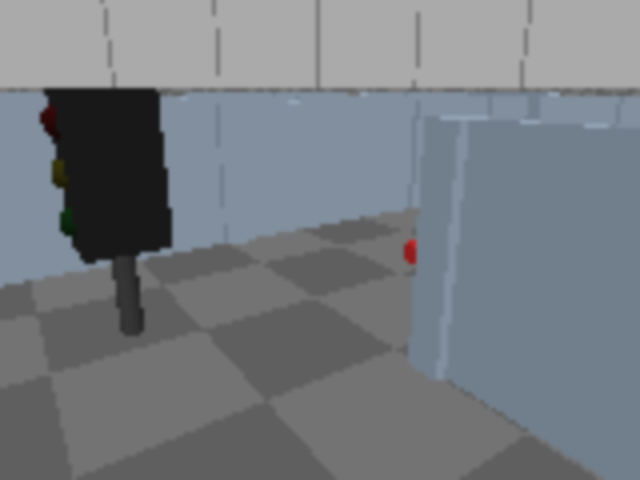puck: (403, 240, 427, 265)
traffic_light: (42, 71, 183, 360)
